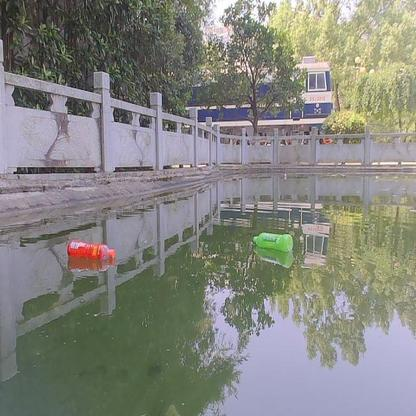plastic bottle: (67, 240, 115, 261), (251, 232, 294, 251)
